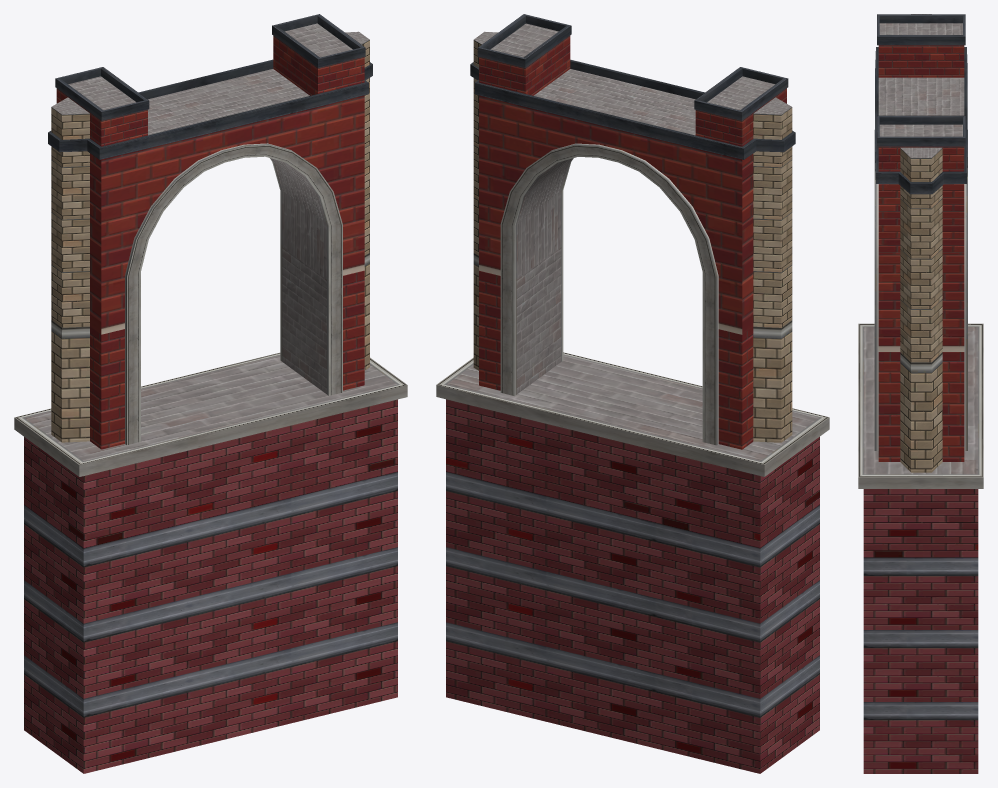
The model's file is BridgePillar_Small.fbx.
3 renders of one model, left to right at view 1: azimuth 30°, elevation 25°; view 2: azimuth 150°, elevation 25°; view 3: azimuth 270°, elevation 25°, orthographic. The views are drawn at different scales.
Visible parts, largest first — view 1: BridgeSmallPillar; view 2: BridgeSmallPillar; view 3: BridgeSmallPillar.
Boxes of the visible parts, left/top/right/bottom form: BridgeSmallPillar: left=14, top=14, right=407, bottom=773; BridgeSmallPillar: left=436, top=14, right=829, bottom=773; BridgeSmallPillar: left=858, top=14, right=983, bottom=773.
Size of what is drawn, in the model's own units: 52.57 by 99.53 by 18.07.
